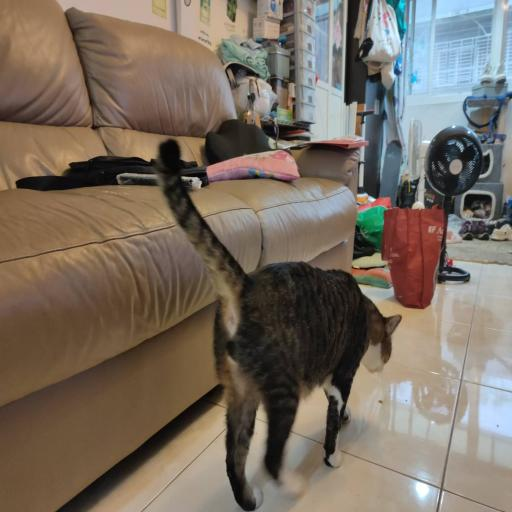cat: (216, 266, 394, 474)
